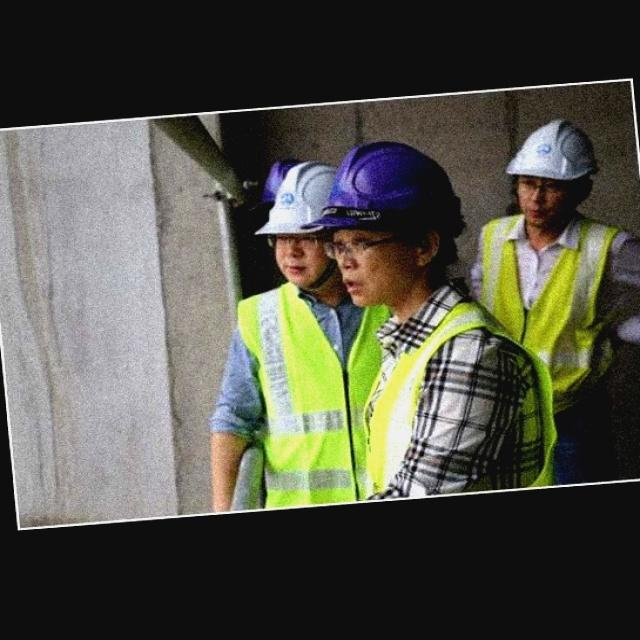helmet: (326, 140, 471, 241), (242, 148, 346, 235), (498, 114, 602, 194)
safety_vest: (356, 304, 558, 495), (215, 275, 374, 507), (468, 196, 624, 403)
